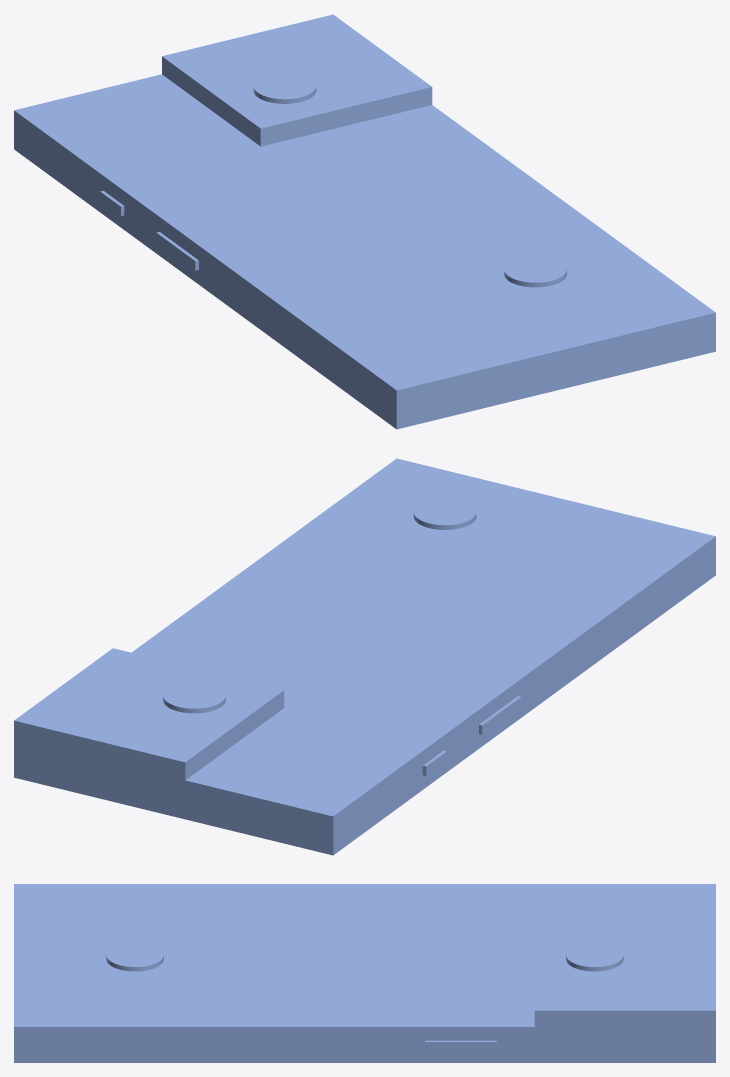
The model's file is iphone-851aad63.glb.
3 views of the same model, one above another, from view 1: azimuth 30°, elevation 25°; view 2: azimuth 150°, elevation 25°; view 3: azimuth 270°, elevation 25° (orthographic). The views are drawn at different scales.
Parts seen in each view (by area): view 1: output; view 2: output; view 3: output.
Part boxes in pixels (left/top/right/bottom): output: left=14, top=14, right=715, bottom=429; output: left=14, top=458, right=715, bottom=855; output: left=14, top=884, right=715, bottom=1062.
Size of the model in its own units: 1.13 by 0.2048 by 2.3.
